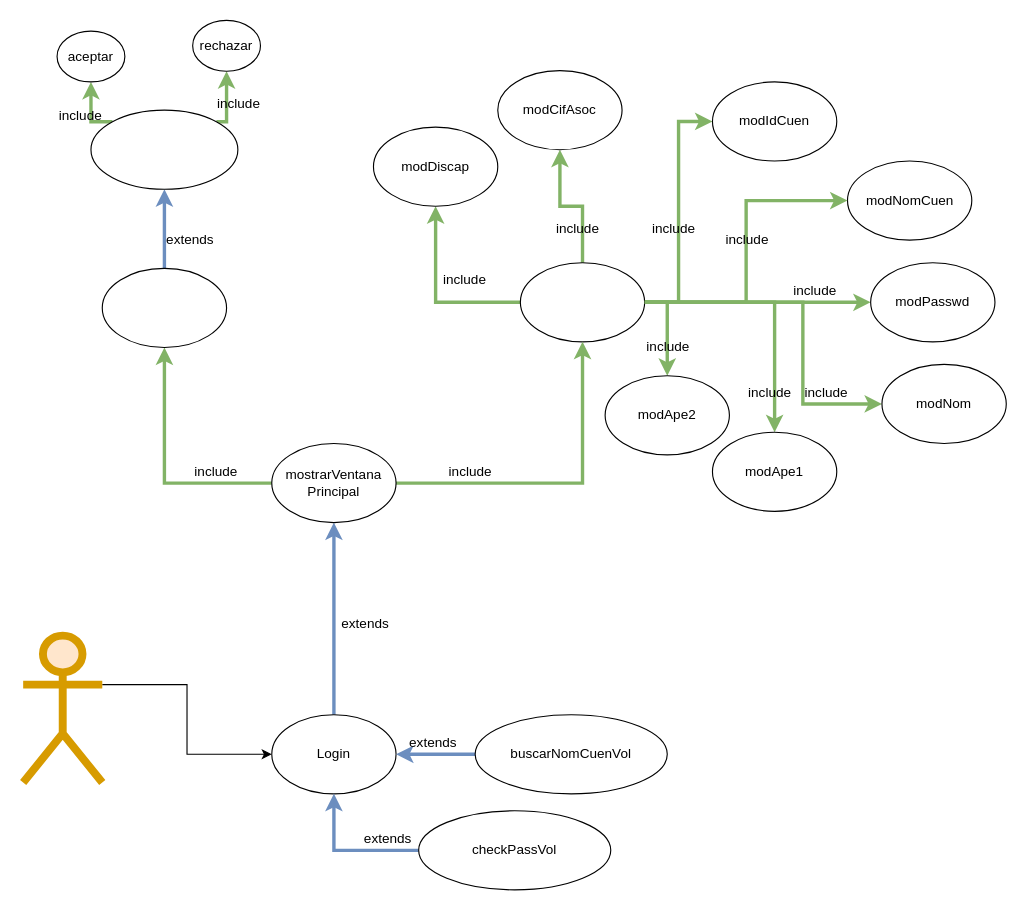
The diagram is 1026 pixels wide and 910 high, and some of its shapes have lost their labels. The shapes that lost their labels are listed below. From the top down, each one's centre as x and y in pixels, then its label:
At [164,149]: "mostrarNotificaciones".
At [164,307]: "mostrarVentana Notificaciones".
At [582,302]: "mostrarVentana modifiarCuenta".
At [62,708]: "VOLUNTARIO".
